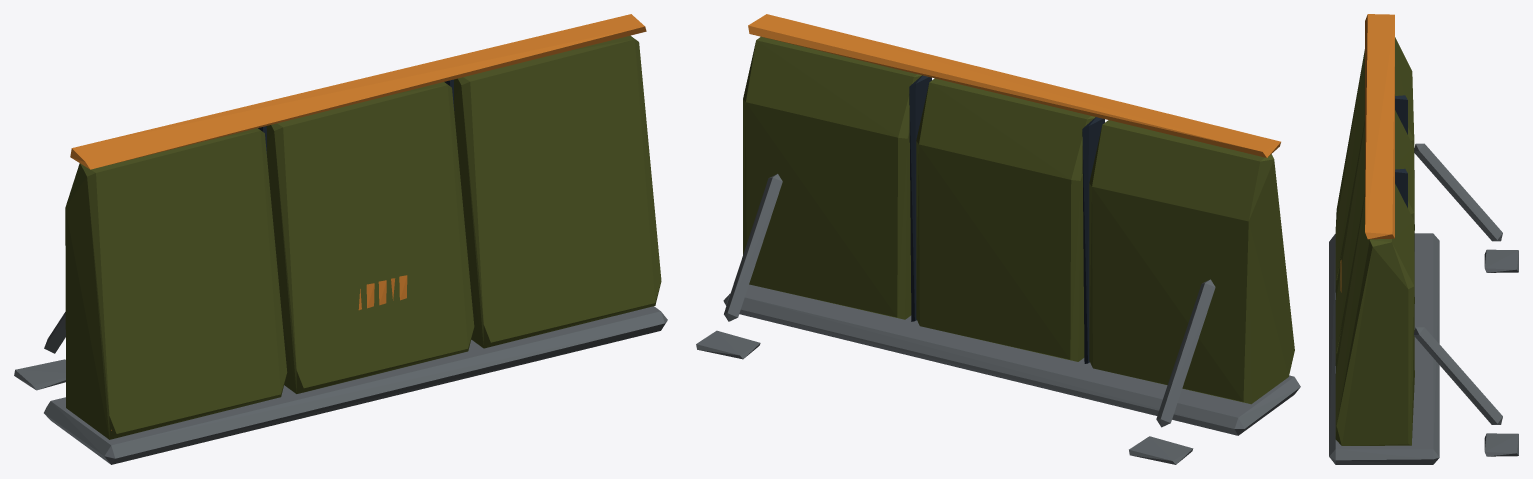
File: deployable_barricade_lod1.obj
3 renders of one model, left to right at view 1: azimuth 30°, elevation 25°; view 2: azimuth 150°, elevation 25°; view 3: azimuth 270°, elevation 25°, orthographic. The views are drawn at different scales.
Parts seen in each view (by area): view 1: deployable_barricade_lod1; view 2: deployable_barricade_lod1; view 3: deployable_barricade_lod1.
Boxes of the visible parts, x1,y1,x2,y2 form: deployable_barricade_lod1: [14, 14, 667, 464]; deployable_barricade_lod1: [696, 14, 1300, 464]; deployable_barricade_lod1: [1329, 14, 1518, 464].
Size of the model in its own units: 2.41 by 1.19 by 0.8735.
